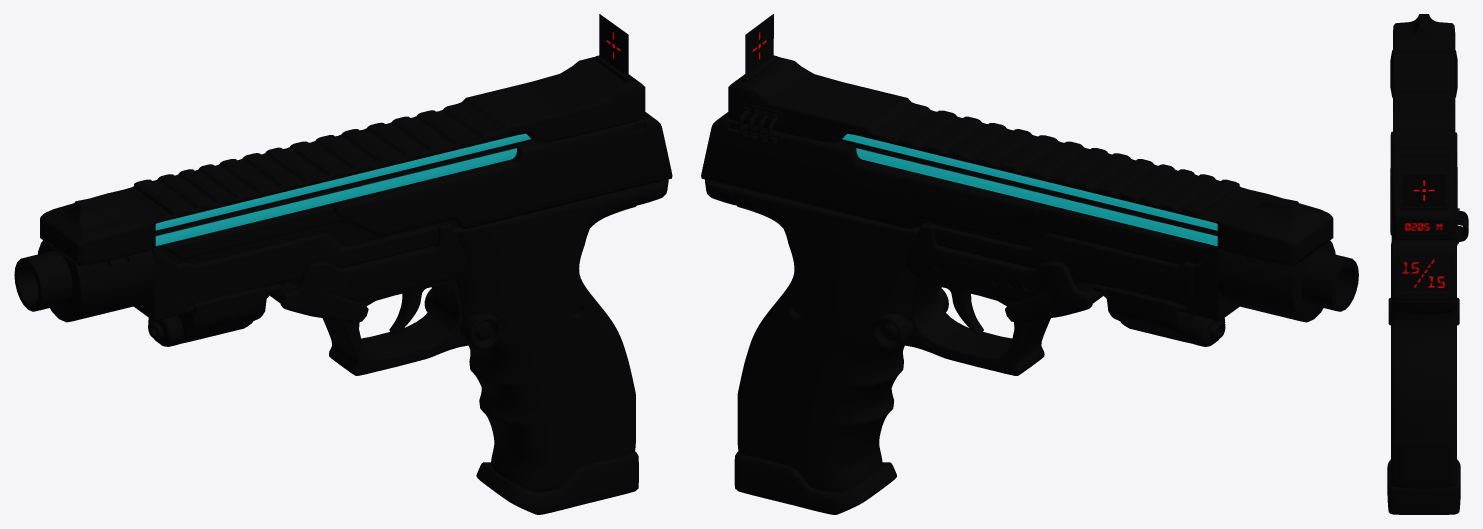
The model's file is Maloran3518.fbx.
3 renders of one model, left to right at view 1: azimuth 30°, elevation 25°; view 2: azimuth 150°, elevation 25°; view 3: azimuth 270°, elevation 25°, orthographic. The views are drawn at different scales.
Parts seen in each view (by area): view 1: polySurface36; view 2: polySurface36; view 3: polySurface36.
Part boxes in pixels (<box>): polySurface36: <box>14,14,672,514</box>; polySurface36: <box>701,14,1358,514</box>; polySurface36: <box>1387,14,1468,514</box>.
Bounding box in the file's own units: 22.74 × 15.7 × 3.39.
